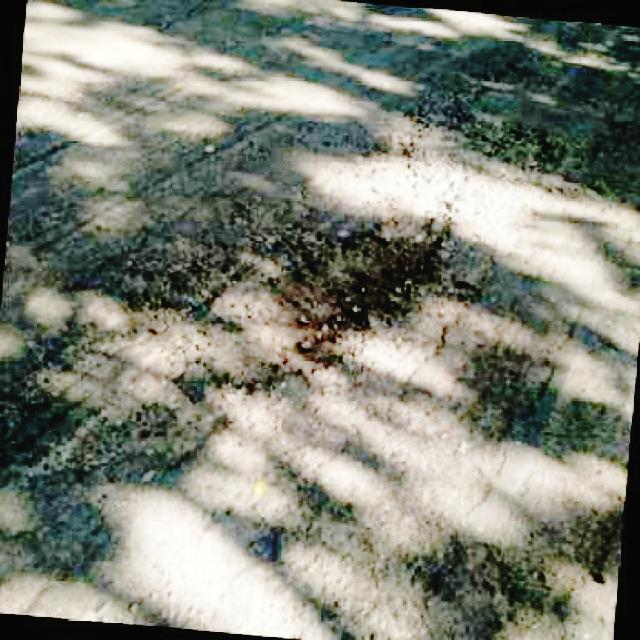pothole: (205, 217, 472, 381)
